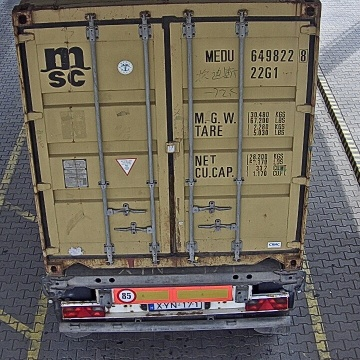serial_id: (205, 49, 308, 61)
